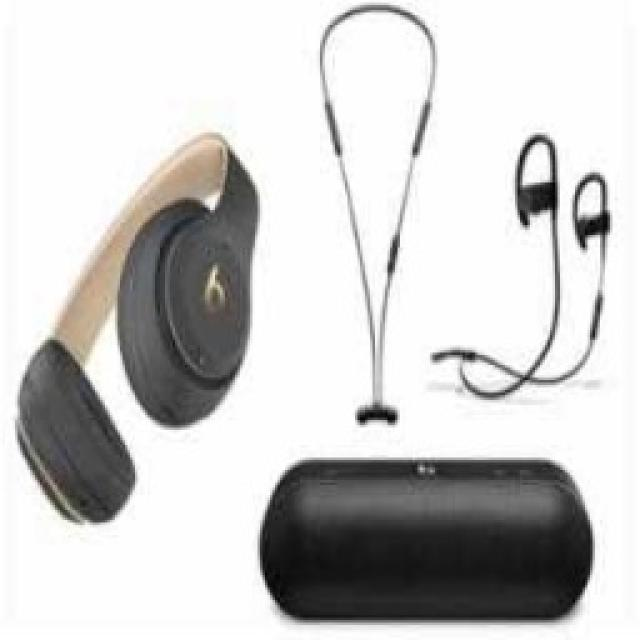headphones: (12, 127, 260, 525)
